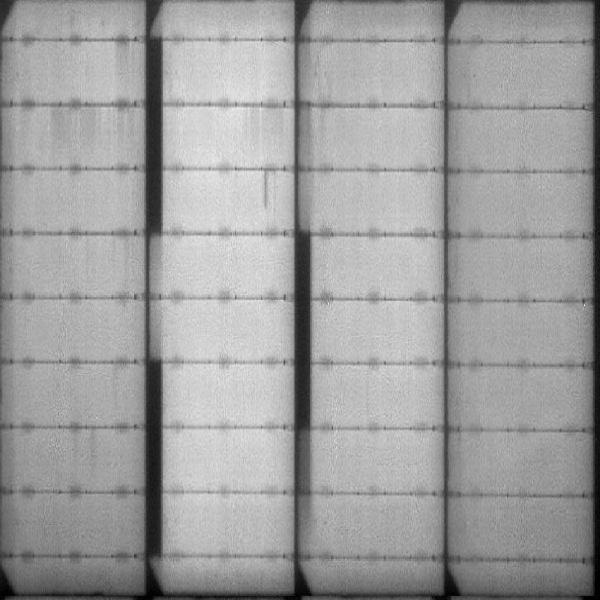black_border: (292, 226, 314, 524), (138, 356, 164, 556), (144, 37, 167, 233)
scratch: (257, 167, 270, 220)
